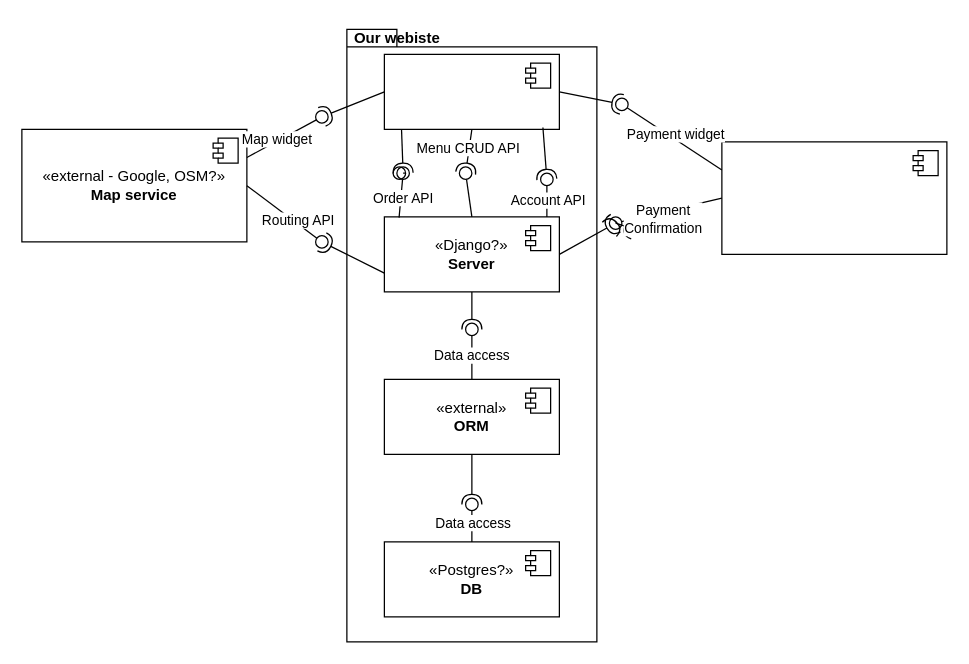
Some shapes in this 969 by 664 pixel diagram are drawn without their labels. Here are the shapes that lost their labels. From the top down, the centre of each, then its label:
the point at 471,91: «Web page» Client
the point at 834,197: «idk who» Payment provider
